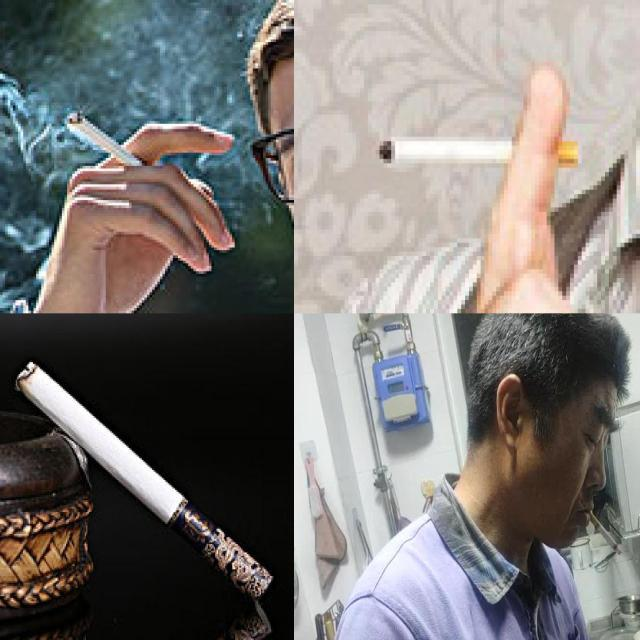smoking: (12, 358, 274, 605), (372, 132, 578, 164), (62, 108, 144, 166), (588, 509, 620, 552)
